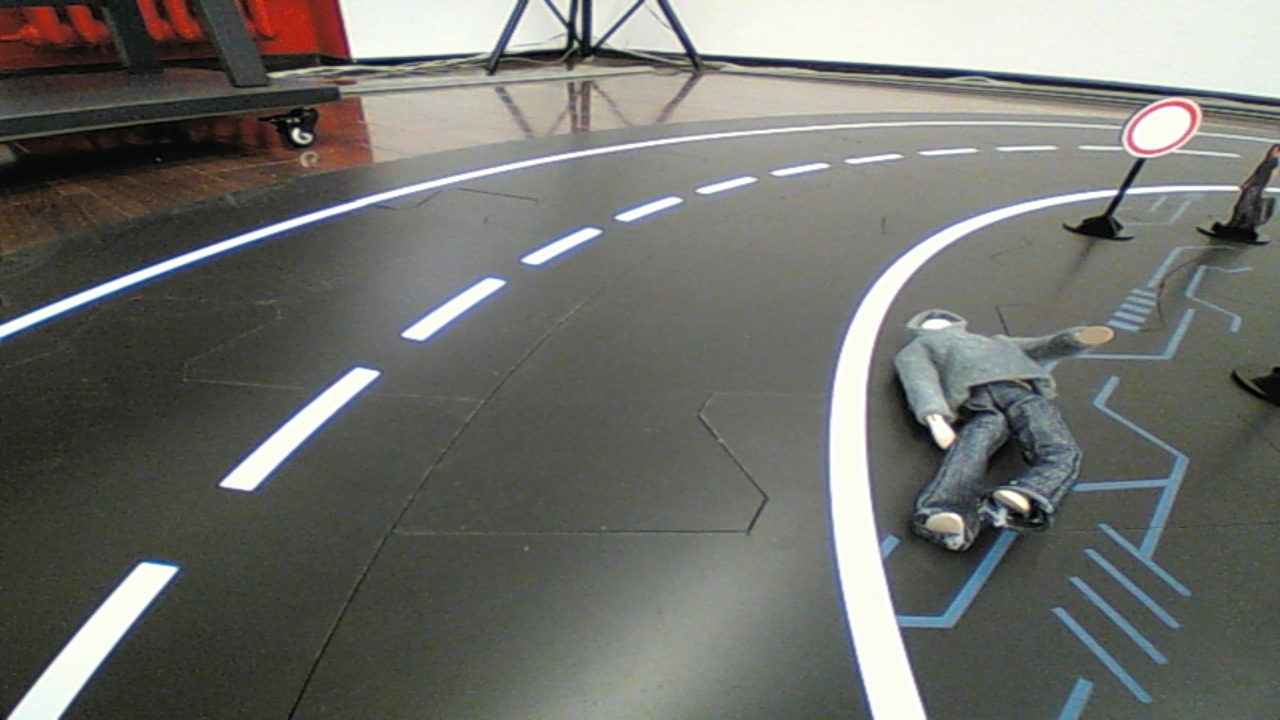Road works: (827, 289, 1155, 556)
